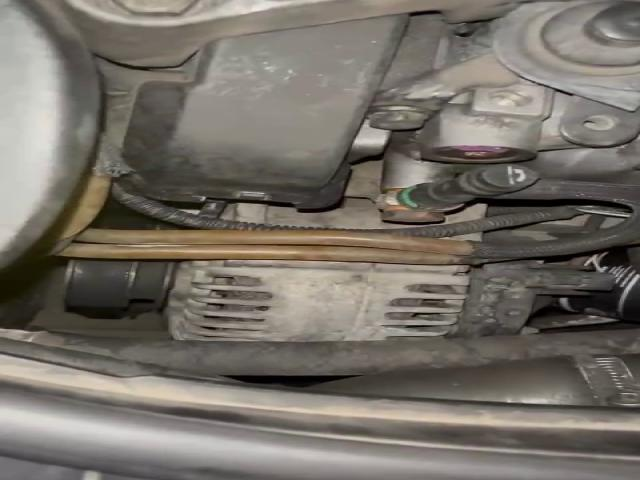alternator: (157, 258, 619, 342)
high_pressure_pump: (379, 11, 640, 187)
